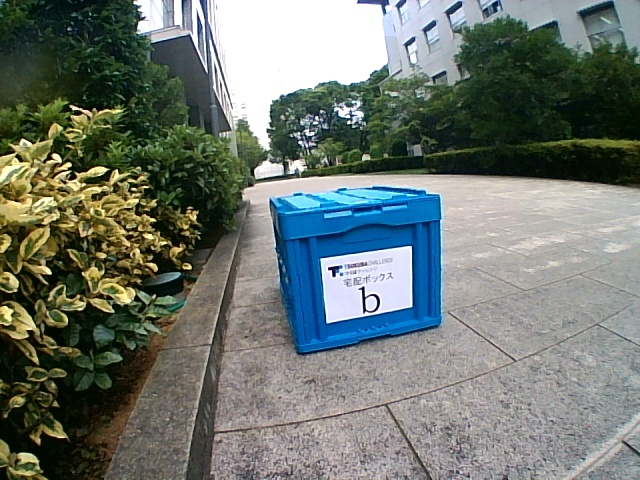green_box: (269, 186, 443, 354)
tag_a: (332, 263, 395, 313)
